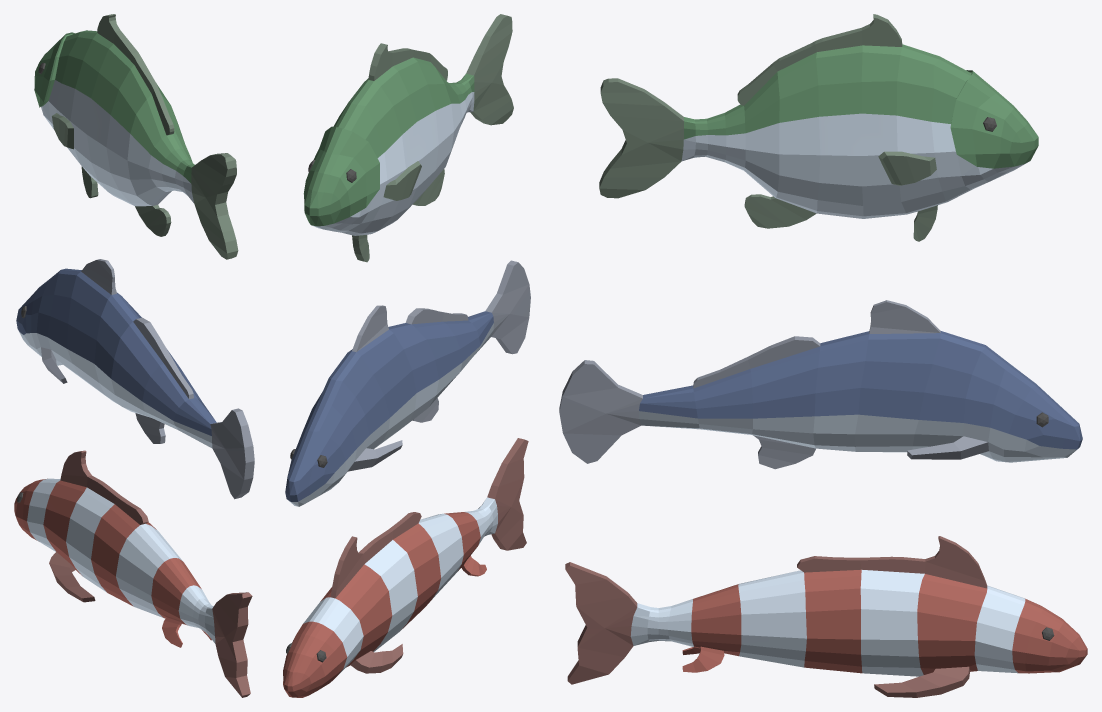
File: low-poly-fish.glb
3 renders of one model, left to right at view 1: azimuth 30°, elevation 25°; view 2: azimuth 150°, elevation 25°; view 3: azimuth 270°, elevation 25°, orthographic. The views are drawn at different scales.
Visible parts, largest first — view 1: fish.001, fish, fish.002; view 2: fish.001, fish.002, fish; view 3: fish.001, fish.002, fish.
Part boxes in pixels (box(x1,y1,x2,y2)): fish.001: box(34, 14, 238, 259); fish: box(14, 450, 252, 697); fish.002: box(16, 259, 254, 499); fish.001: box(303, 14, 513, 262); fish.002: box(285, 260, 530, 506); fish: box(283, 438, 528, 697); fish.001: box(599, 14, 1038, 241); fish.002: box(559, 300, 1082, 469); fish: box(565, 536, 1087, 697).
Size of the model in its own units: 0.5861 by 3.98 by 2.85.
